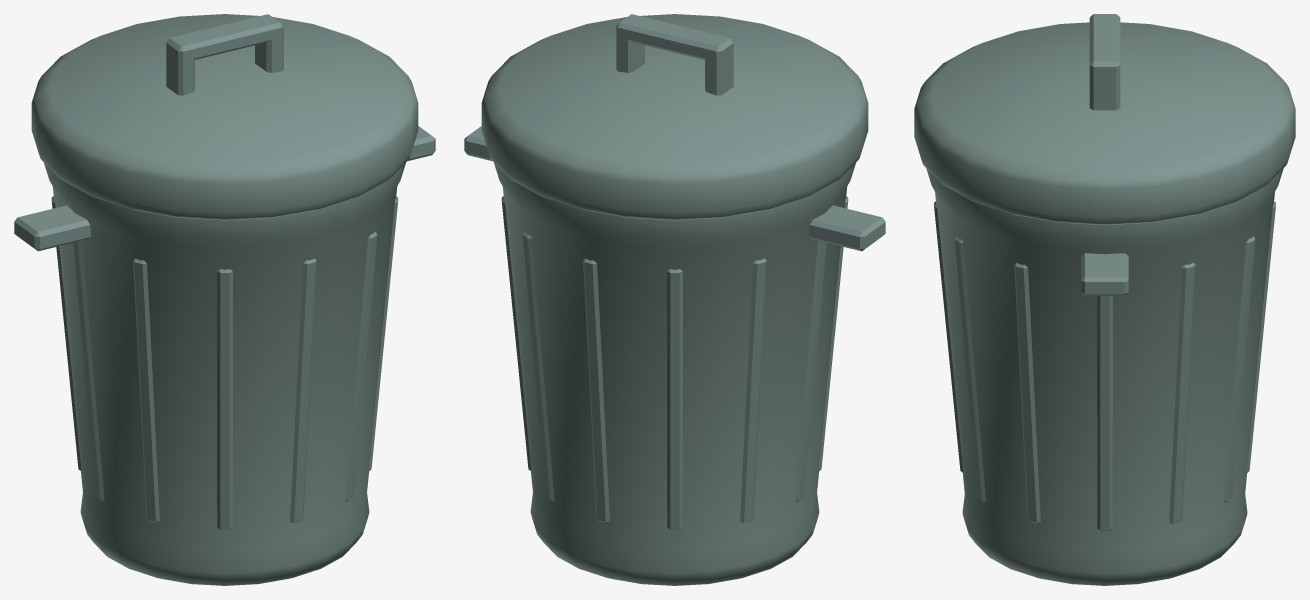
Rendered from Trash.glb.
3 renders of one model, left to right at view 1: azimuth 30°, elevation 25°; view 2: azimuth 150°, elevation 25°; view 3: azimuth 270°, elevation 25°, orthographic.
Visible parts, largest first — view 1: Trash_Lid_HandlePost.001; view 2: Trash_Lid_HandlePost.001; view 3: Trash_Lid_HandlePost.001.
Boxes of the visible parts, x1=… form: Trash_Lid_HandlePost.001: x1=14, y1=14, x2=435, y2=585; Trash_Lid_HandlePost.001: x1=464, y1=14, x2=885, y2=585; Trash_Lid_HandlePost.001: x1=914, y1=14, x2=1295, y2=585.
Size of the model in its own units: 1.63 by 1.95 by 1.36.
